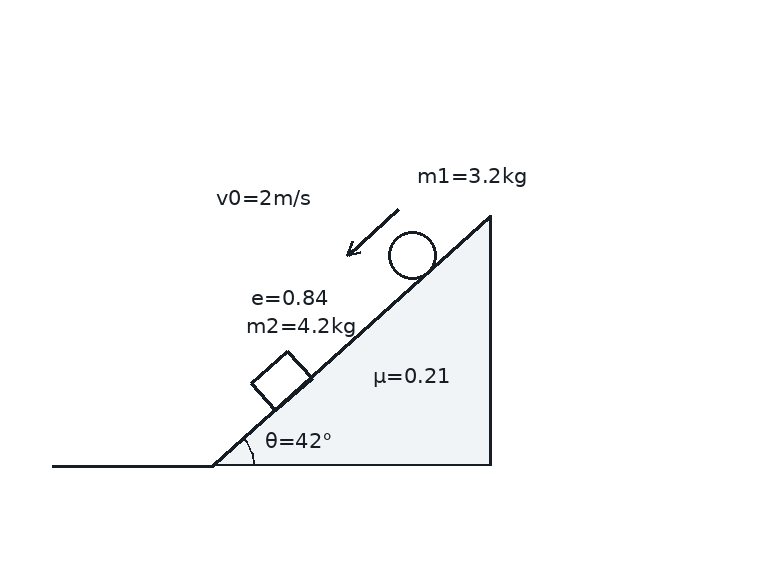ball: (386, 229, 438, 281)
block: (249, 349, 313, 412)
ramp: (212, 213, 493, 467)
